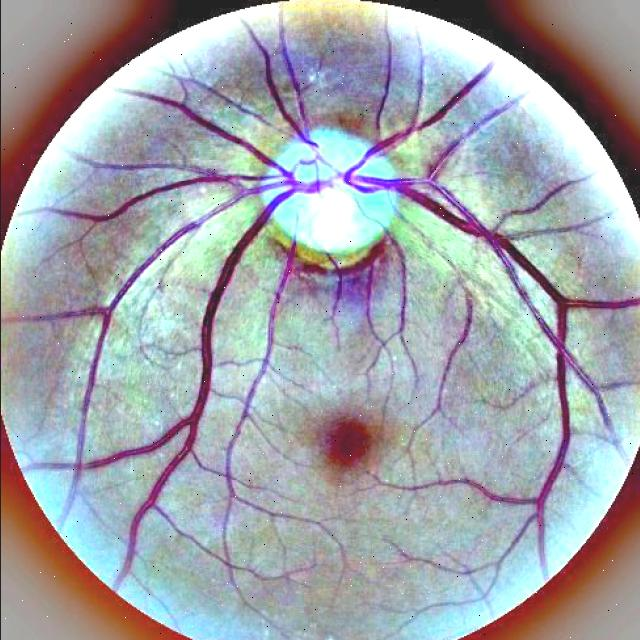Macula: (306, 396, 388, 483)
Nerves: (346, 144, 640, 535), (82, 164, 360, 528)
Optic Disk: (251, 109, 417, 276)
